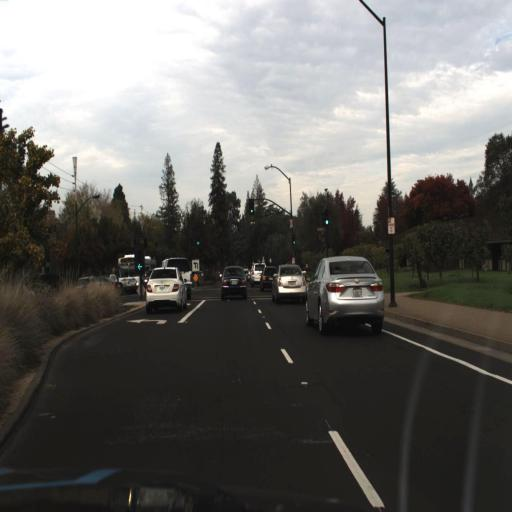car: (307, 256, 385, 332), (145, 267, 189, 312), (158, 257, 194, 300), (270, 264, 308, 304), (220, 264, 248, 300), (276, 264, 304, 300), (165, 258, 190, 292), (263, 264, 277, 294), (252, 261, 265, 288)
trafficLight: (249, 200, 254, 216)
trafficLight-Green: (322, 212, 332, 236), (196, 236, 202, 255), (323, 214, 329, 232)
trafficLight-GreenLeft: (136, 250, 144, 279)
truck: (116, 254, 146, 293)
